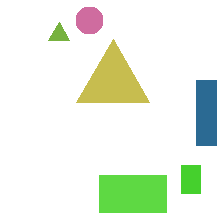circle: (76, 7, 102, 33)
rectangle: (99, 175, 166, 212), (196, 80, 216, 145), (181, 165, 200, 193)
triangle: (76, 39, 149, 102), (48, 22, 69, 40)
